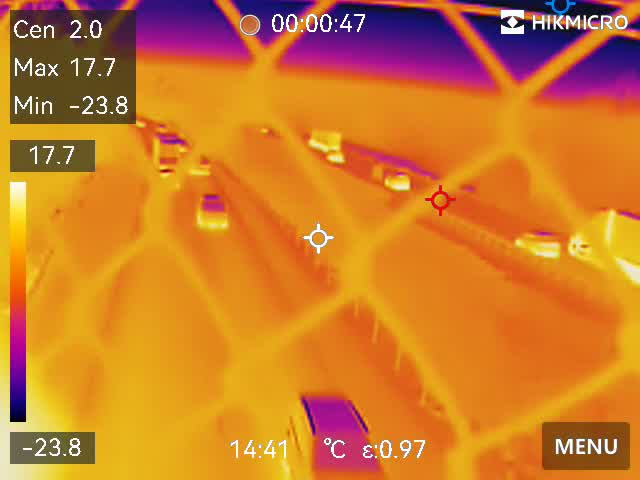heavyTruck: (569, 204, 640, 289), (307, 126, 343, 153)
largeCar: (284, 391, 392, 480)
smallCar: (324, 151, 342, 163)
vehicle: (150, 134, 182, 191), (194, 188, 227, 237), (513, 229, 567, 257), (380, 171, 417, 194), (184, 152, 212, 178)
